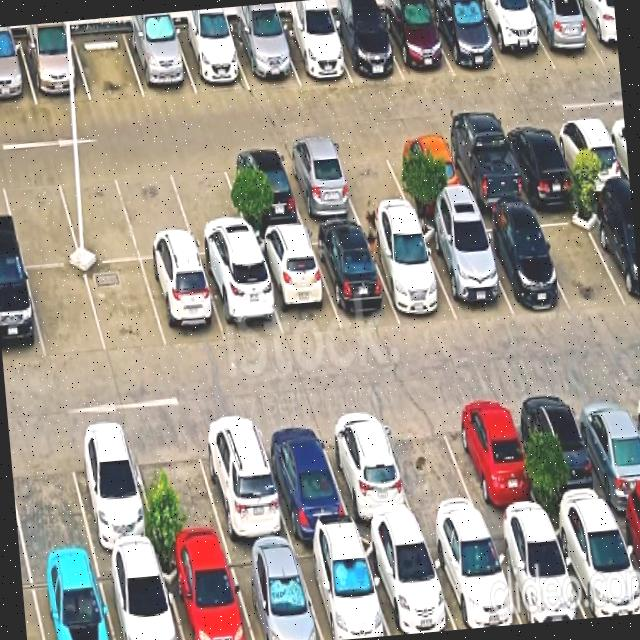empty: (376, 400, 484, 530), (128, 425, 227, 552), (9, 431, 93, 564), (530, 201, 628, 307), (167, 153, 252, 255), (55, 165, 139, 263), (115, 161, 196, 259), (0, 168, 80, 266), (84, 260, 166, 354), (26, 265, 106, 359), (330, 140, 411, 218), (71, 30, 144, 100)
occupied: (442, 394, 544, 523), (193, 413, 291, 546), (316, 406, 419, 529), (515, 388, 611, 516), (64, 427, 159, 556), (255, 414, 353, 539), (486, 519, 586, 623), (423, 525, 521, 629), (293, 536, 389, 640), (359, 533, 456, 635), (549, 510, 640, 618), (418, 218, 513, 321), (472, 213, 567, 314), (252, 231, 341, 338), (225, 544, 323, 640), (308, 226, 399, 329), (363, 223, 456, 321), (569, 385, 640, 509), (159, 549, 252, 640), (141, 256, 226, 348), (199, 252, 283, 342), (96, 553, 182, 640), (440, 128, 527, 211), (221, 149, 304, 233), (29, 559, 114, 640), (278, 144, 360, 225), (385, 134, 469, 210), (499, 121, 579, 200), (473, 0, 555, 76), (551, 116, 629, 193), (378, 3, 454, 81), (586, 198, 640, 307), (427, 1, 505, 76), (520, 0, 604, 69), (326, 11, 403, 82), (173, 26, 249, 94), (123, 27, 196, 97), (19, 34, 90, 105), (276, 18, 351, 85), (229, 23, 299, 89), (0, 264, 45, 364), (572, 0, 619, 64), (0, 38, 36, 108), (611, 506, 640, 585)
